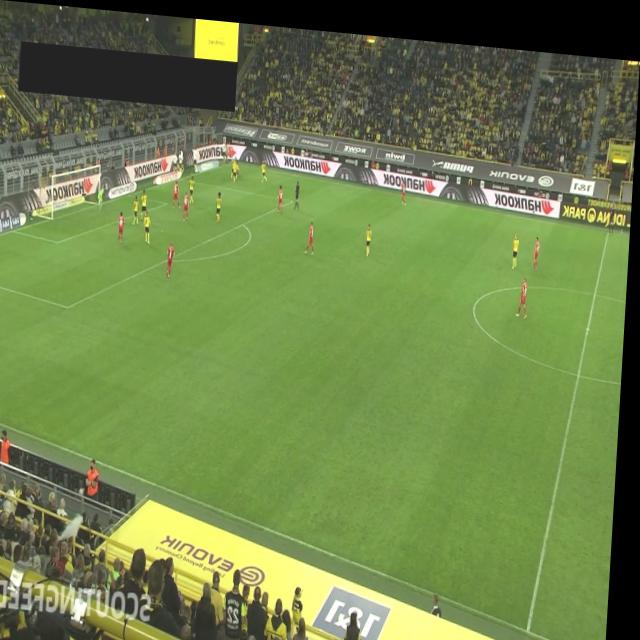goalkeeper: (99, 182, 108, 211)
player: (519, 266, 532, 309), (169, 236, 179, 275), (307, 214, 318, 249), (145, 206, 155, 240), (513, 223, 522, 259), (142, 184, 151, 219), (120, 208, 128, 240), (174, 177, 183, 205), (190, 170, 198, 201), (367, 215, 374, 250), (135, 192, 143, 222), (535, 225, 542, 259), (185, 186, 192, 218), (218, 186, 225, 218), (279, 178, 286, 208), (262, 154, 270, 179), (234, 155, 241, 180), (402, 173, 409, 198), (232, 151, 239, 176)
referee: (609, 186, 619, 222), (296, 174, 303, 204)
